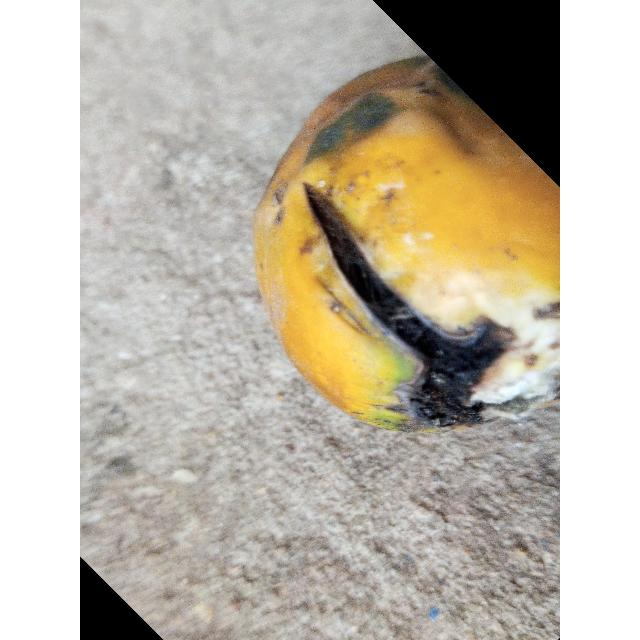damaged: (252, 56, 560, 433)
